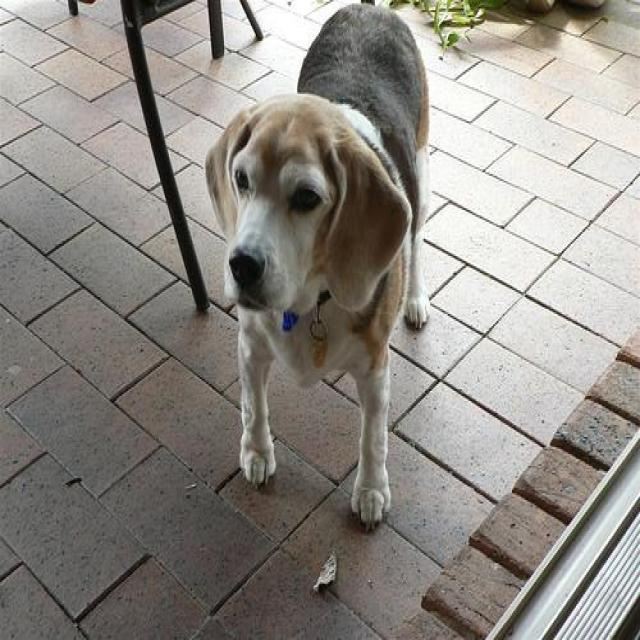beagle: (201, 2, 430, 526)
